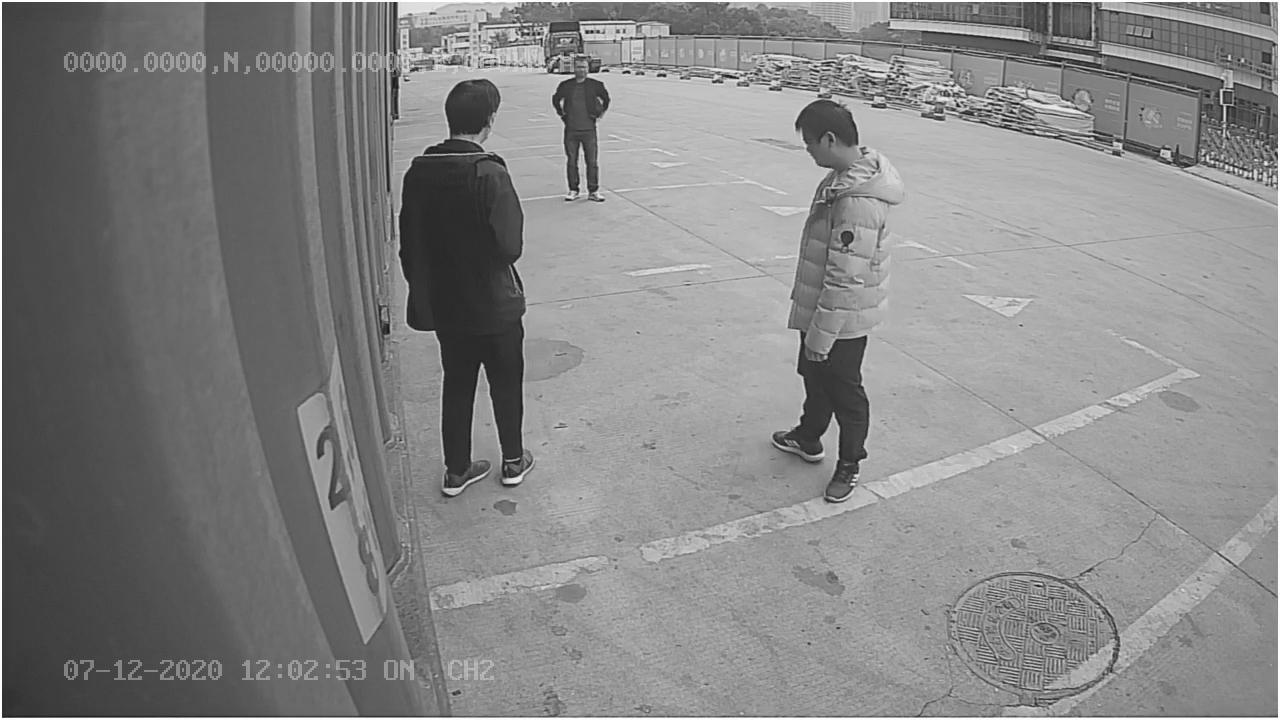person: (766, 91, 908, 501)
